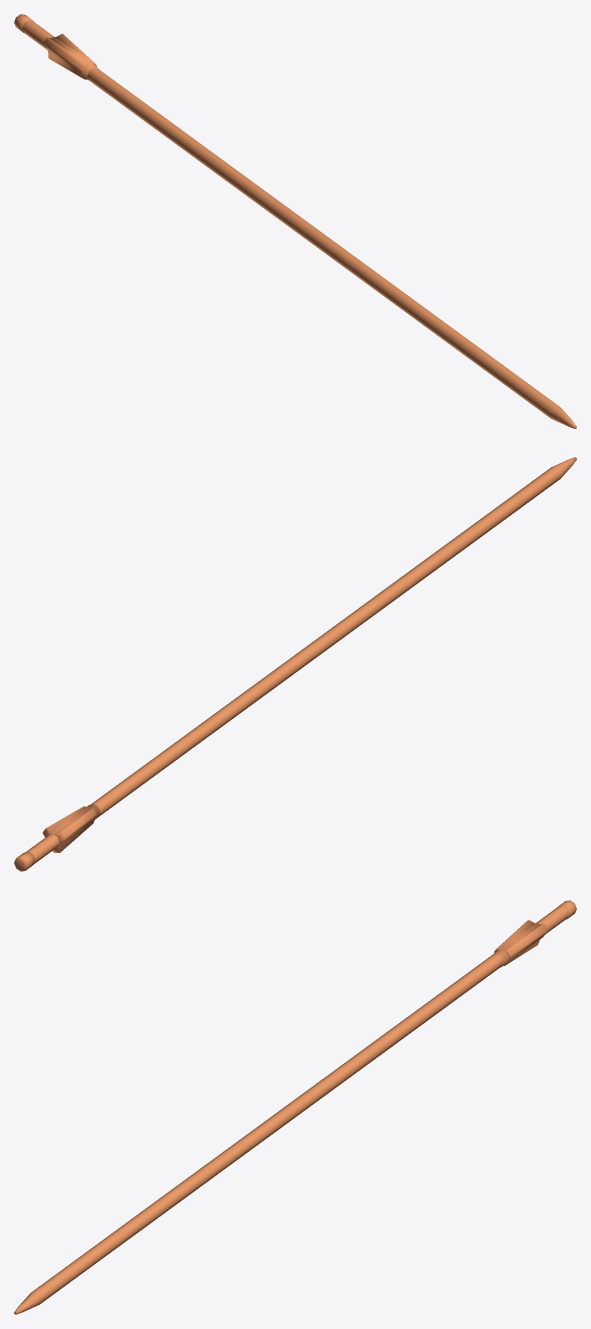
The model's file is Arrow.fbx.
The picture shows the model from 3 angles, top to bottom: view 1: azimuth 30°, elevation 25°; view 2: azimuth 150°, elevation 25°; view 3: azimuth 330°, elevation 25°; orthographic projection.
Visible parts, largest first — view 1: Arrow; view 2: Arrow; view 3: Arrow.
Part boxes in pixels (x1,y1,x2,y2): Arrow: (14, 14, 576, 428); Arrow: (14, 457, 576, 871); Arrow: (14, 900, 576, 1314).
Bounding box in the file's own units: 0.7071 × 0.0163 × 0.0175.
